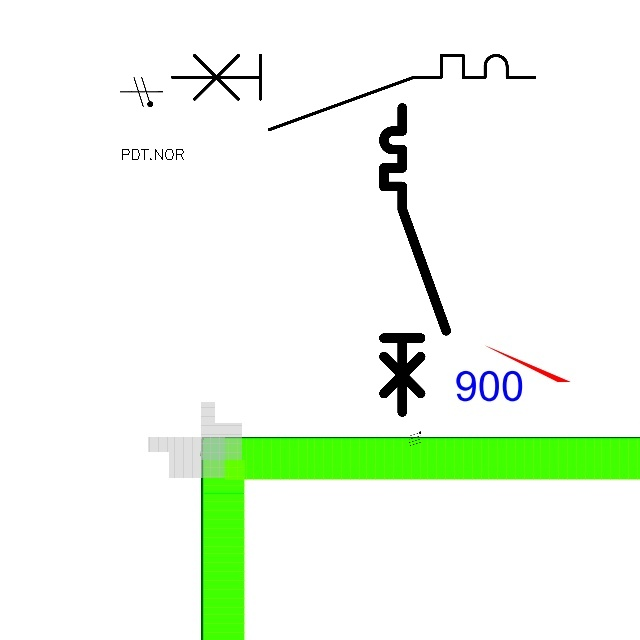interruptor_termomagnetico: (163, 46, 544, 139), (376, 100, 454, 419)
